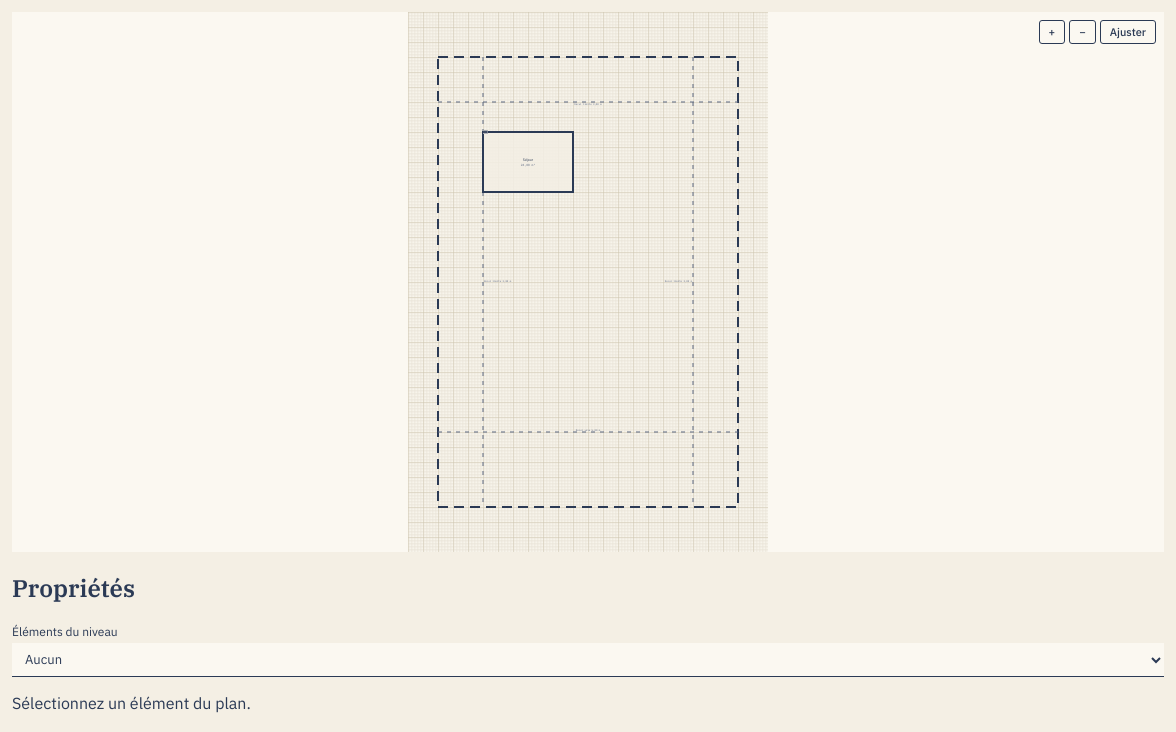
Scenario: outil Porte / Fenêtre › refuse la 201ᵉ ouverture
Press the mouse on the picture named "Plan du projet" at x=588, y=282, box top-left (12, 12), bottom-right (1164, 552)
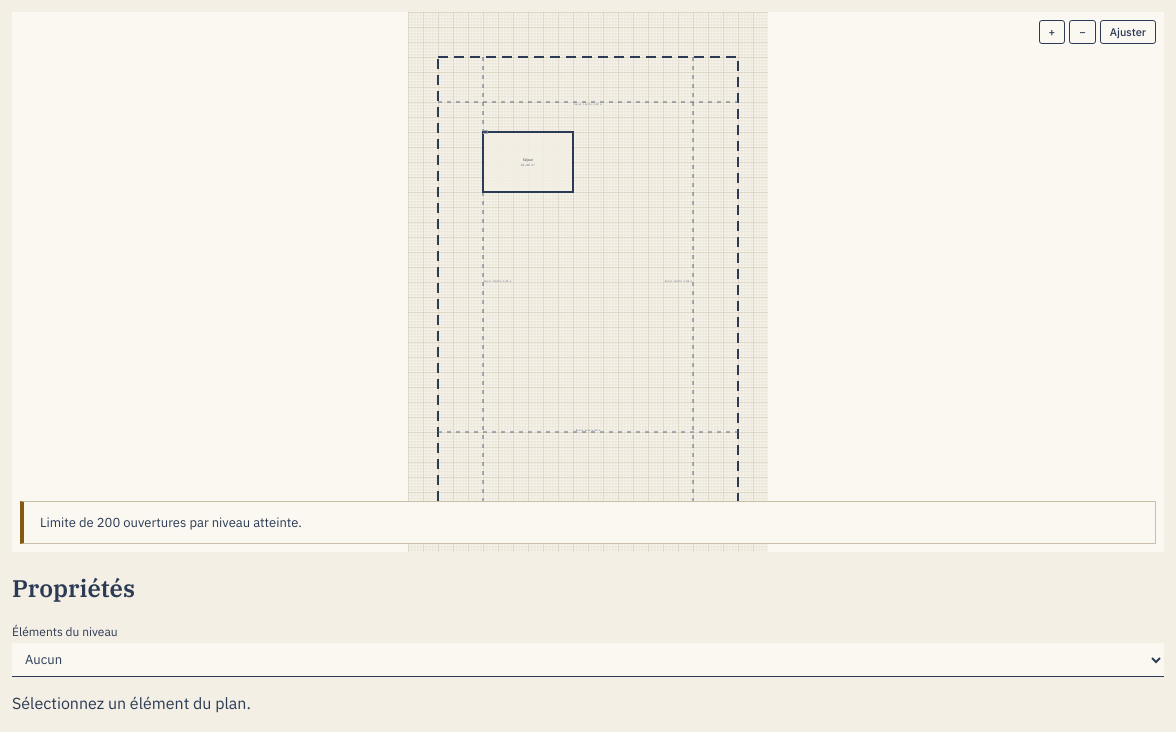
Check: the text "Limite de 200 ouvertures par niveau atteinte." is shown, box top-left (40, 514), bottom-right (302, 531)
